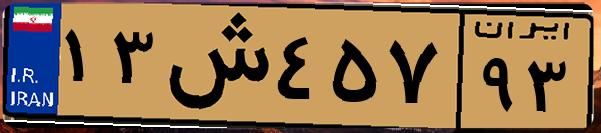1: (57, 26, 110, 100)
3: (525, 38, 570, 115), (110, 28, 158, 98)
4: (270, 28, 330, 110)
5: (330, 28, 385, 110)
7: (385, 28, 445, 110)
9: (475, 38, 525, 113)
ش: (158, 12, 270, 120)
